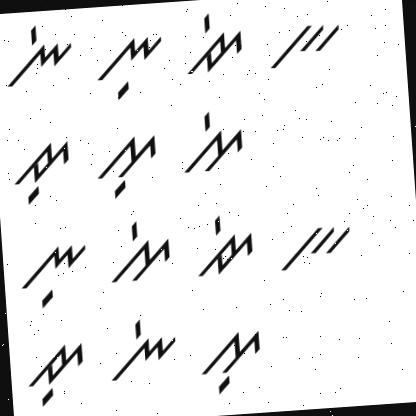je: (190, 209, 258, 283), (182, 8, 248, 78)
ju: (20, 333, 93, 409), (6, 134, 76, 207)
nye: (106, 310, 182, 385), (0, 20, 77, 93)
nyu: (15, 237, 91, 312), (93, 30, 169, 102)
se: (176, 104, 249, 179), (106, 217, 176, 287)
su: (88, 124, 162, 202), (195, 323, 271, 396)
